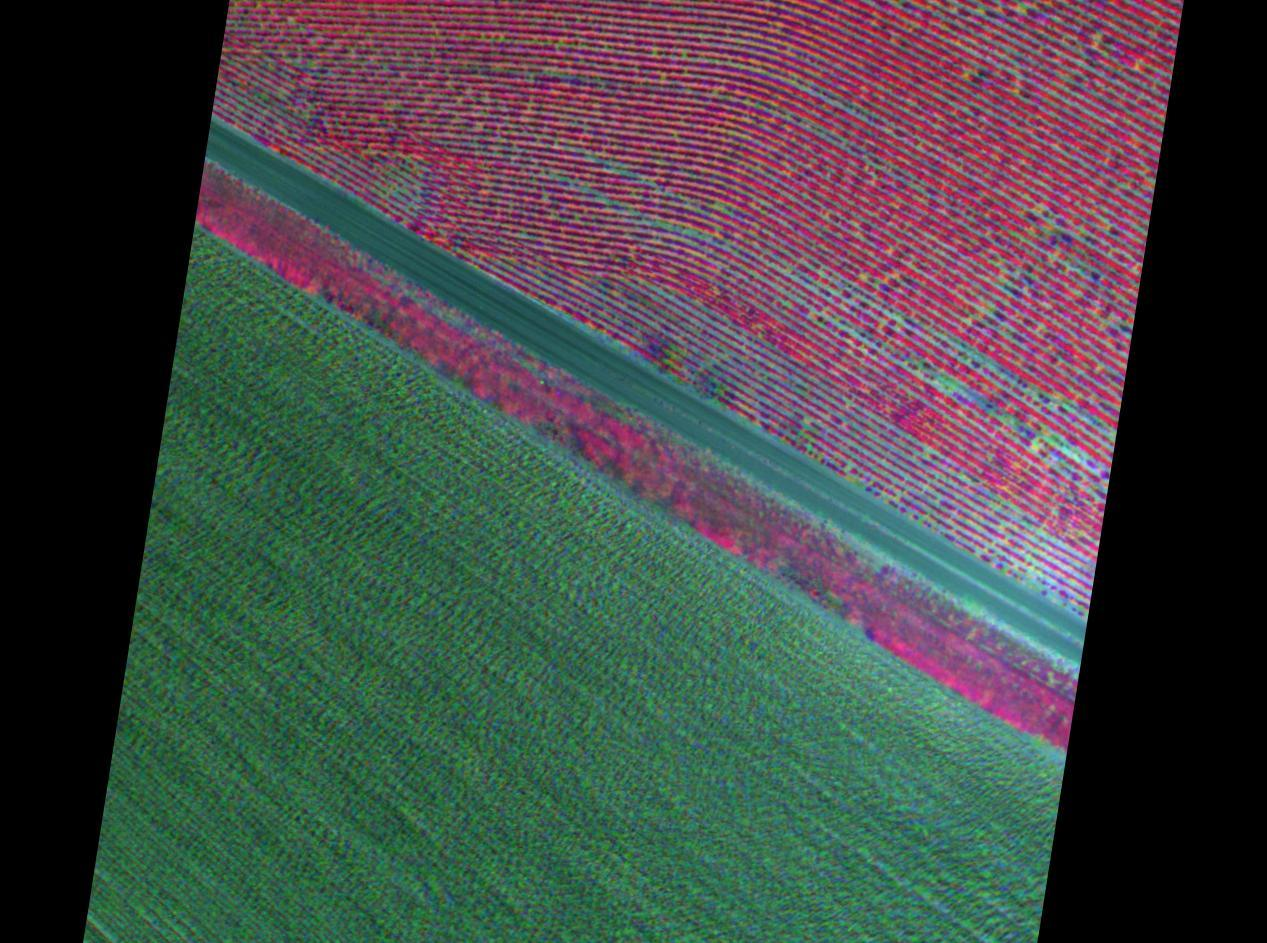dc: (937, 381, 951, 392), (1041, 430, 1052, 439), (588, 151, 594, 160)
